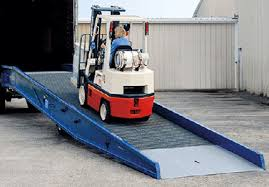Pallet Jack: (68, 4, 157, 122)
Yard Ramp: (2, 65, 268, 180)
